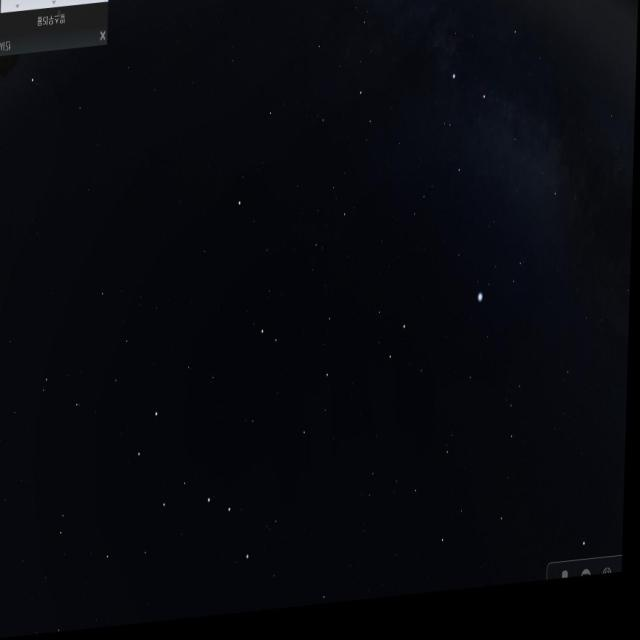cygnus: (429, 25, 577, 245)
lyra: (473, 250, 533, 329)
ursa_major: (124, 390, 278, 585)
